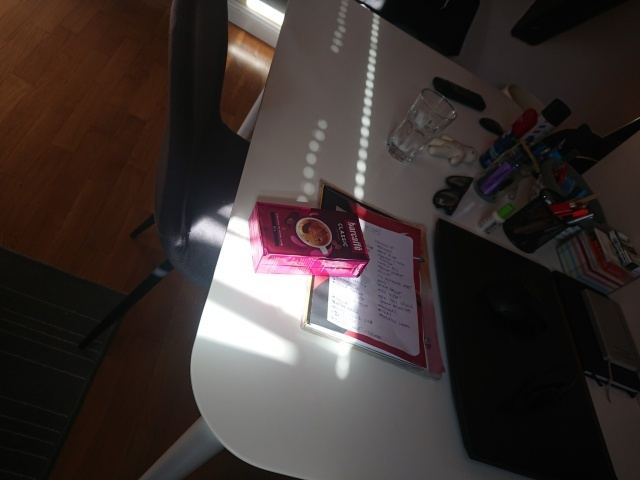Barcaffe Classic Original 225g: (246, 199, 372, 281)
